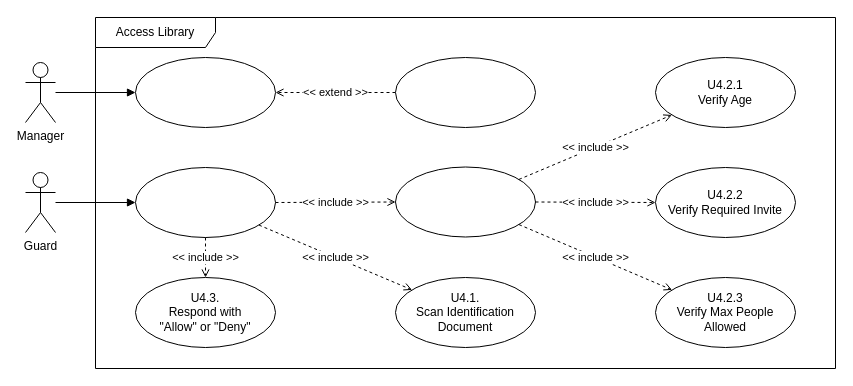
This 853x386 diagram has some shape labels left out. Here are the shapes that lost their labels. From the top down, the centre of each, then its label:
At (205,92): "U3. View Access History for Space".
At (465,92): "U3.1. Filter Access History".
At (205,202): "U4. Allow/Deny Access".
At (465,201): "U4.2. Verify ID Details Against Space Constraints".
